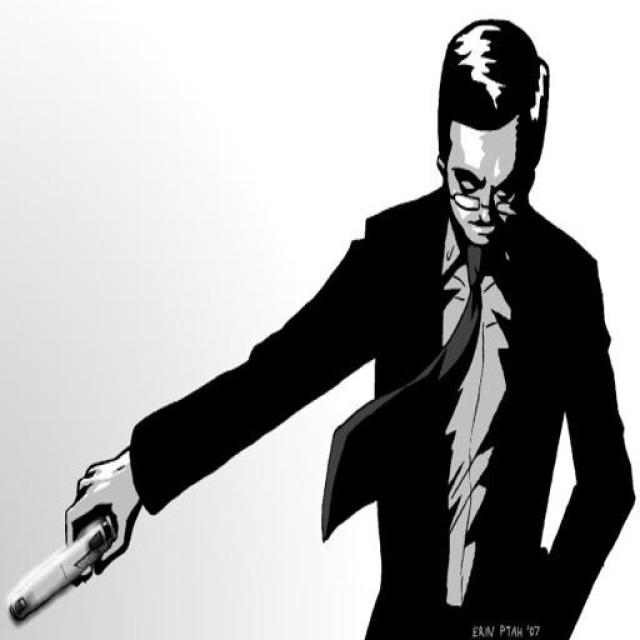pistol: (10, 458, 139, 626)
